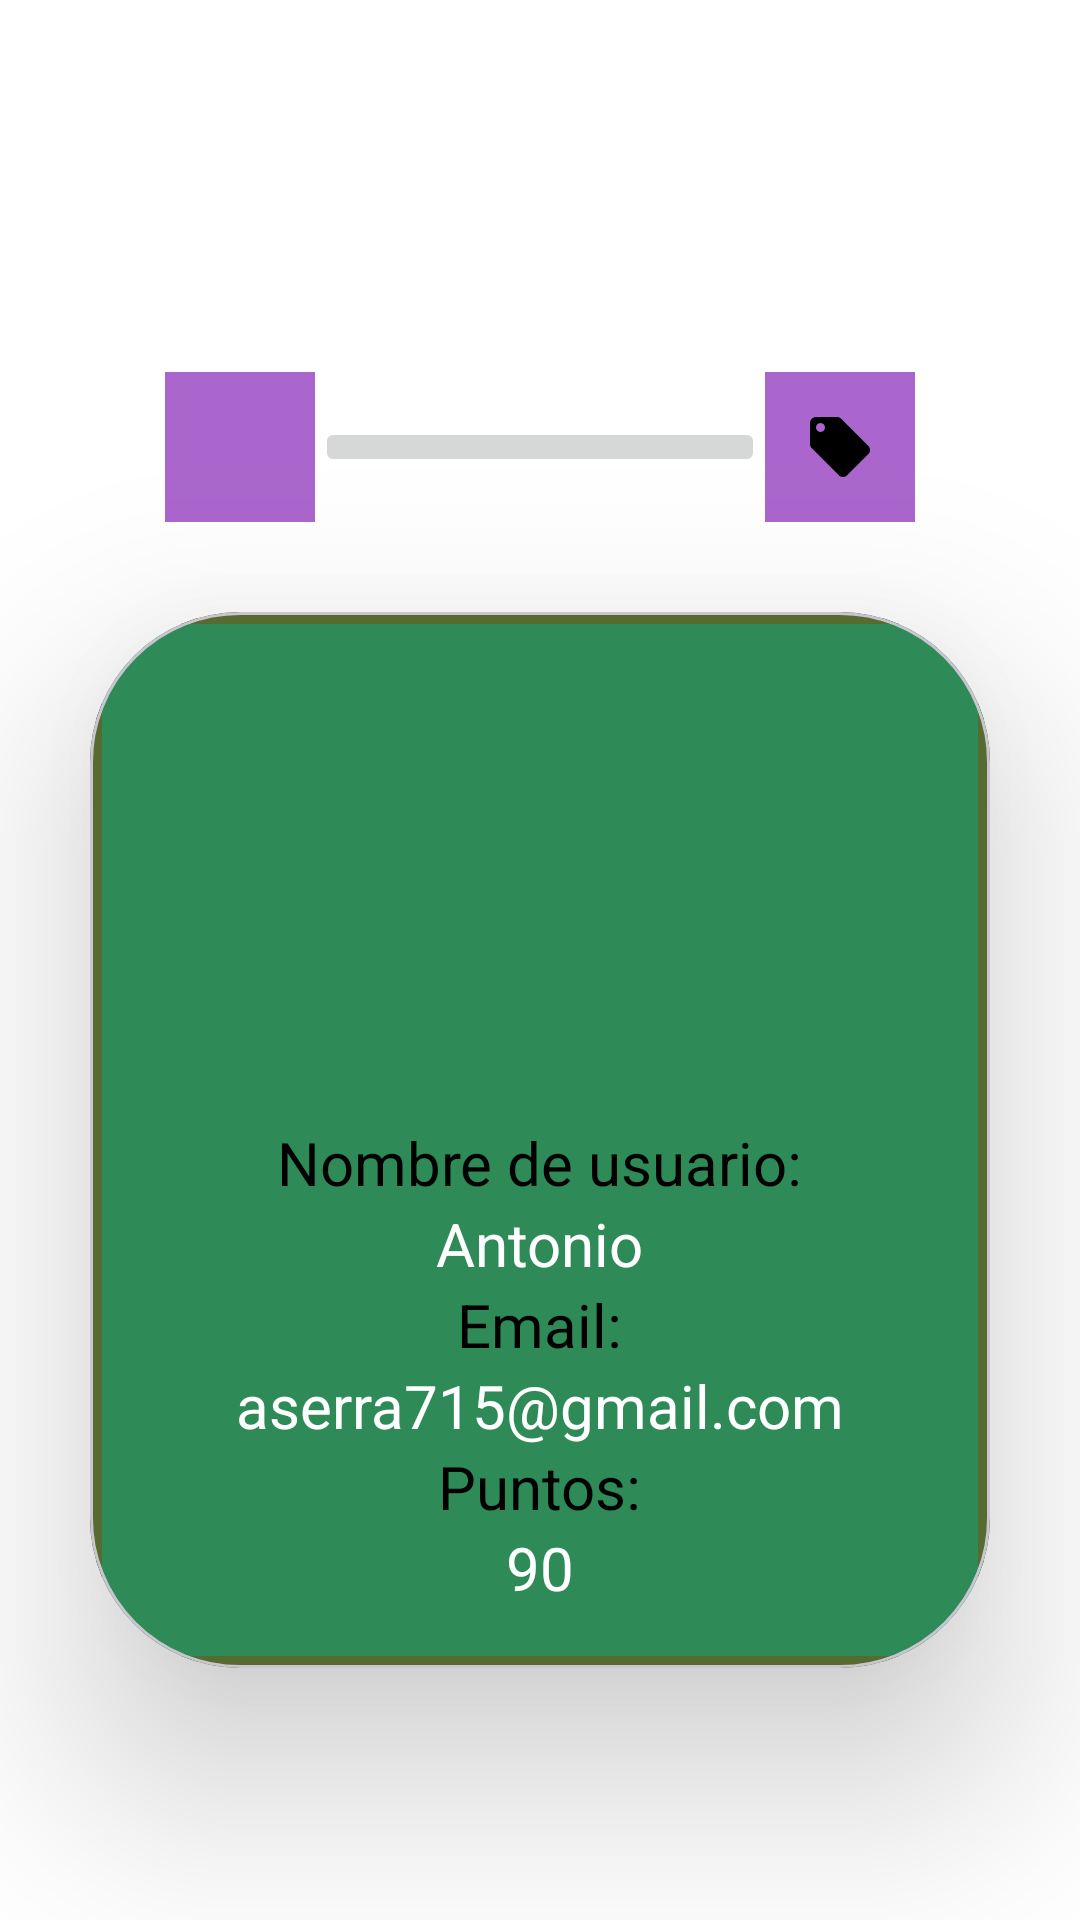

Named icons in this screenshot (1080 × 1920) and their centers, (x=x, y=y):
Canjear puntos: (x=840, y=447)
